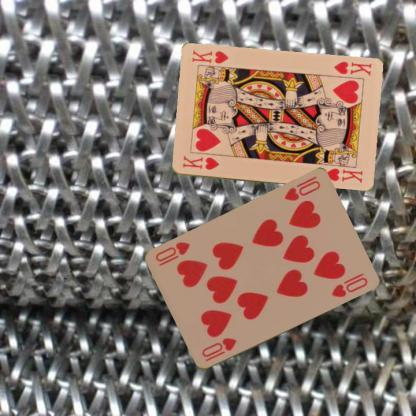10h: (199, 335, 238, 364), (280, 178, 322, 203)
Kh: (331, 59, 372, 78), (180, 153, 220, 172)
